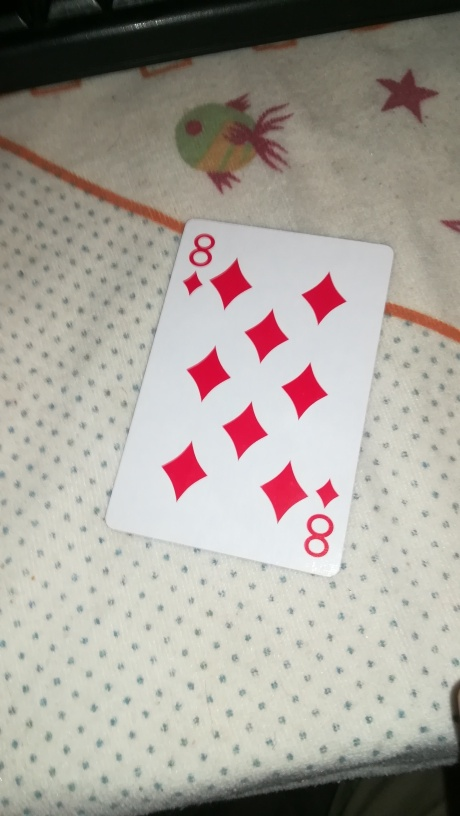fk 8: (105, 216, 395, 577)
